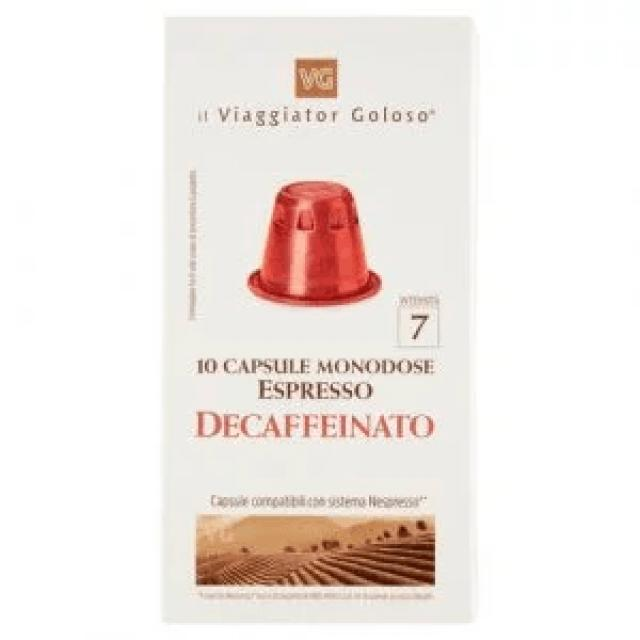Coffee: (162, 16, 480, 627)
